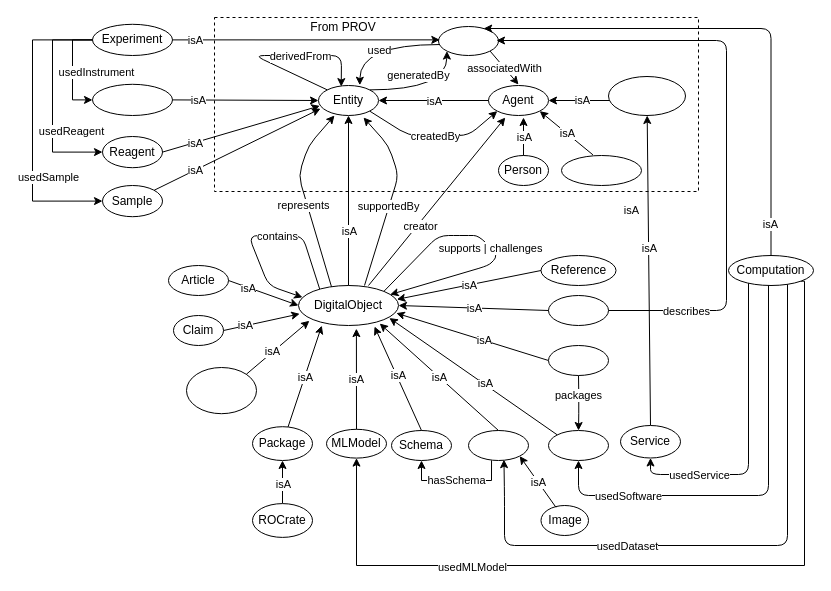
Image size: 831x591. Some labels were removed from this diagram. The shapes that lost their labels are listed below. From the top down, each one's centre as x and y in pixels, then its label:
At (468,41): "Activity".
At (132,99): "Instrument".
At (647,96): "Software Agent".
At (601,170): "Organization".
At (578,310): "Method".
At (578,360): "Container".
At (221,390): "Evidence Graph".
At (498,445): "Dataset".
At (578,445): "Software".
